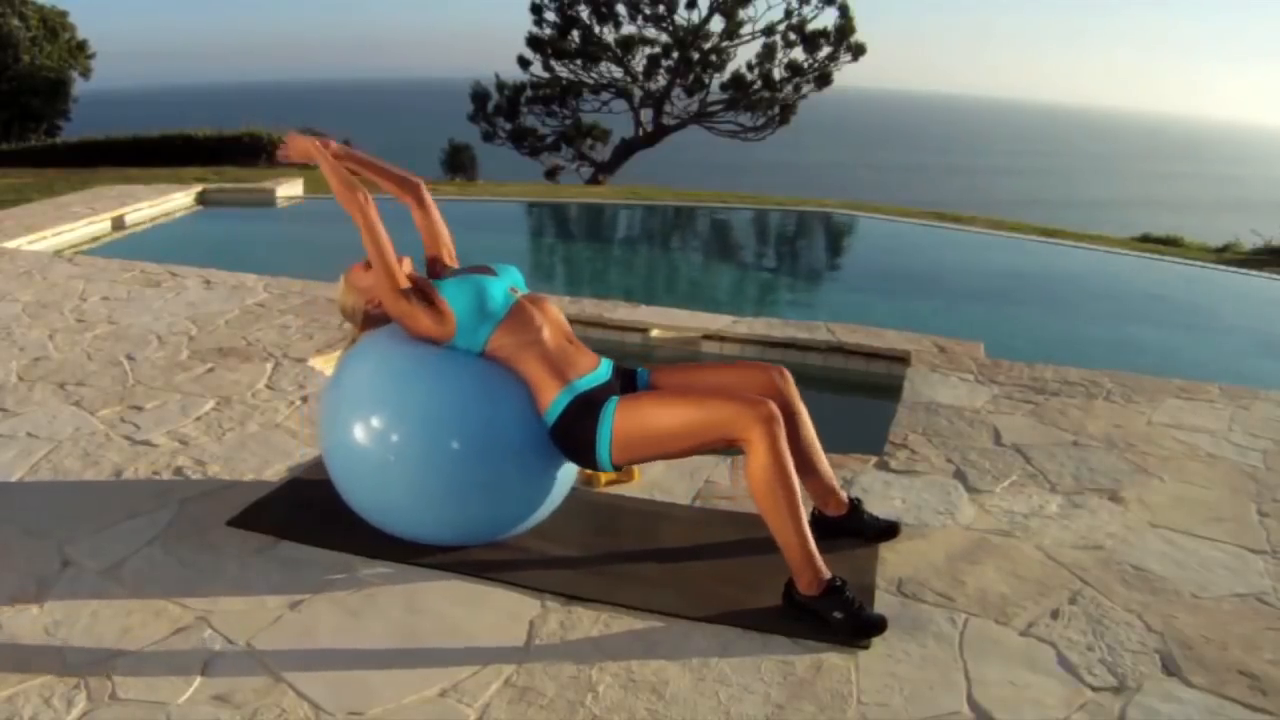yogaball: (313, 320, 589, 553)
